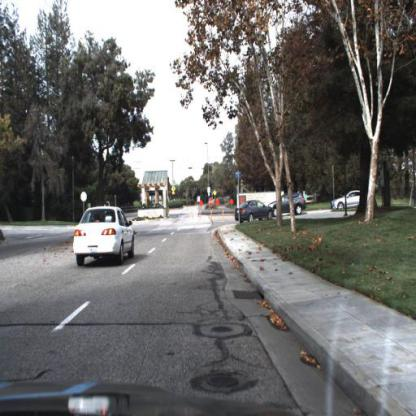car: (72, 206, 136, 266), (331, 188, 375, 215), (234, 198, 276, 225), (270, 191, 308, 217), (331, 192, 367, 210)
